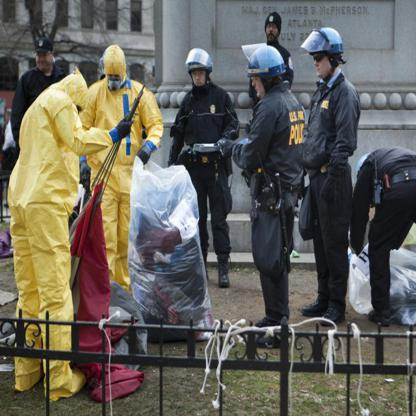face: (314, 48, 333, 77), (252, 70, 268, 99), (107, 66, 123, 92), (37, 48, 53, 72), (67, 100, 85, 118), (192, 64, 206, 87), (267, 22, 279, 42)
